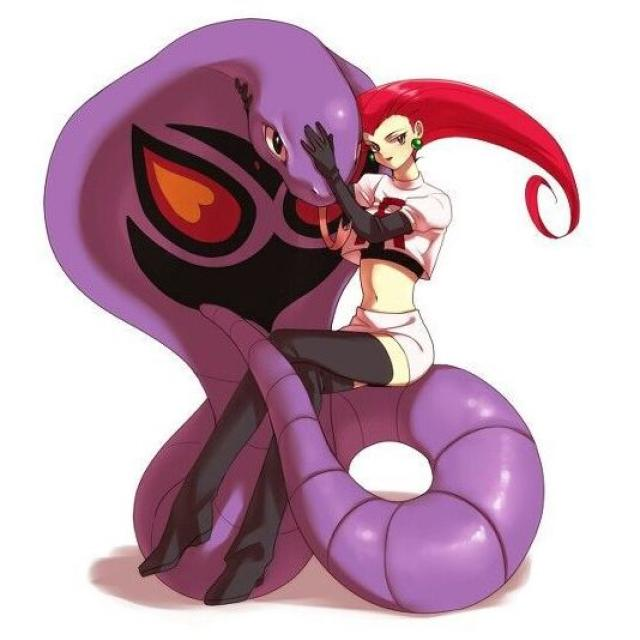Arbok: (36, 9, 378, 544)
